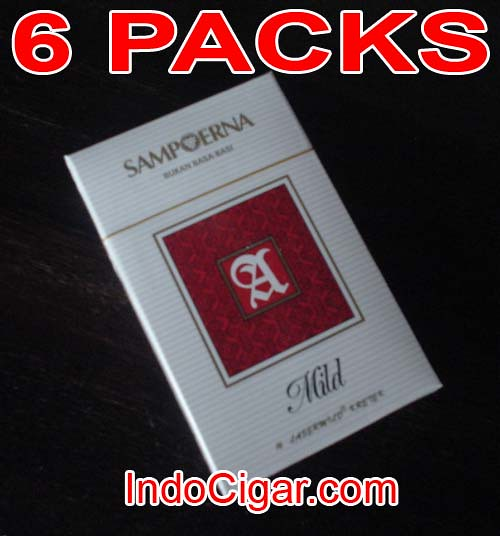A Mild: (107, 184, 396, 417)
